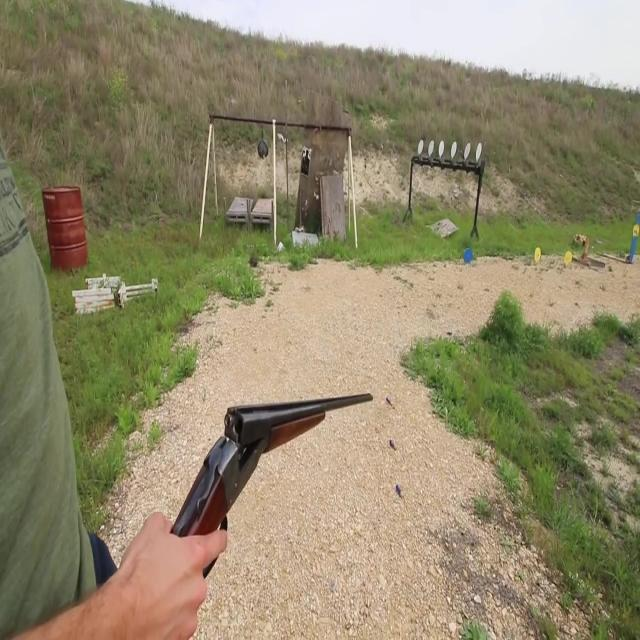Weapon: (121, 342, 382, 621)
